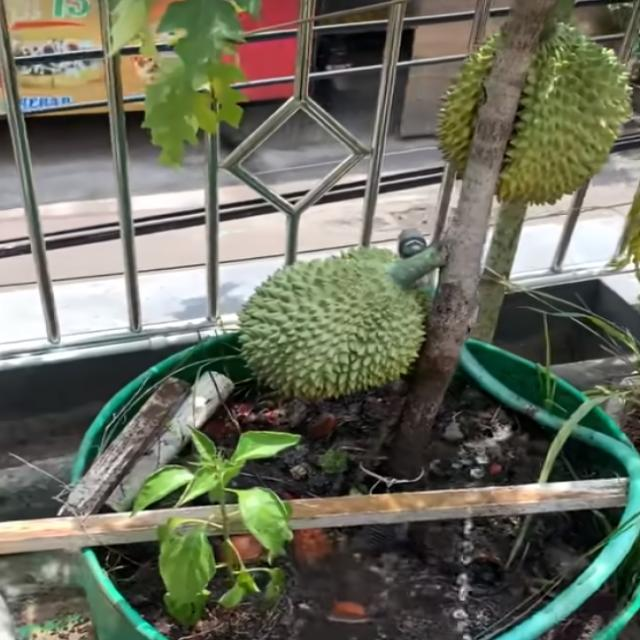immature: (434, 17, 630, 213), (233, 243, 432, 406)
